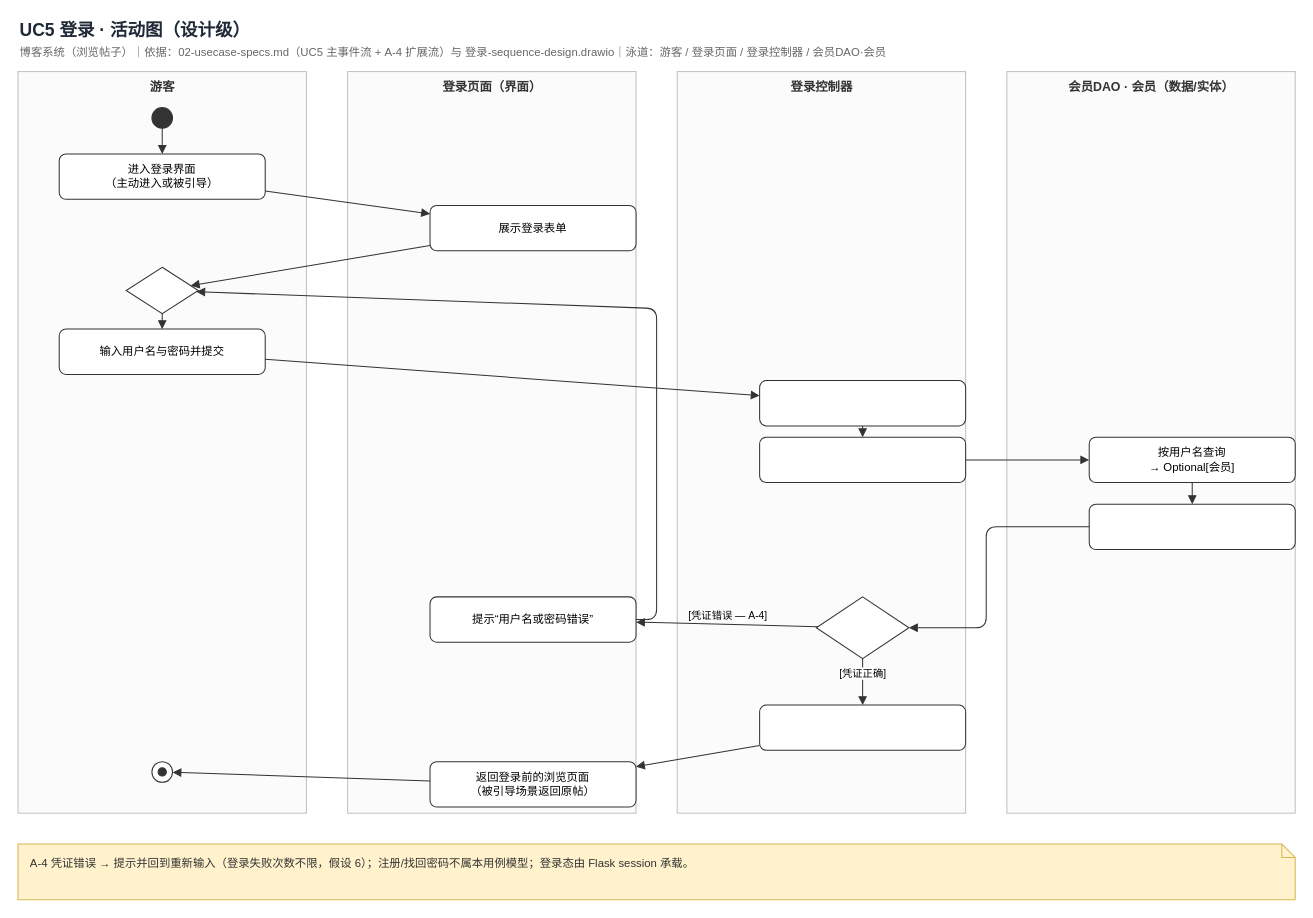
Some shapes in this 1313 by 918 pixel diagram are drawn without their labels. The centre of each missing label's shape, as x and y in pixels:
"建立登录态（当前会员）" goes at (862,727).
"校验凭证(用户名, 密码)" goes at (862,403).
"校验密码(密码) （会员）" goes at (1191,526).
"调用 会员DAO .按用户名查询(用户名)" goes at (862,459).
